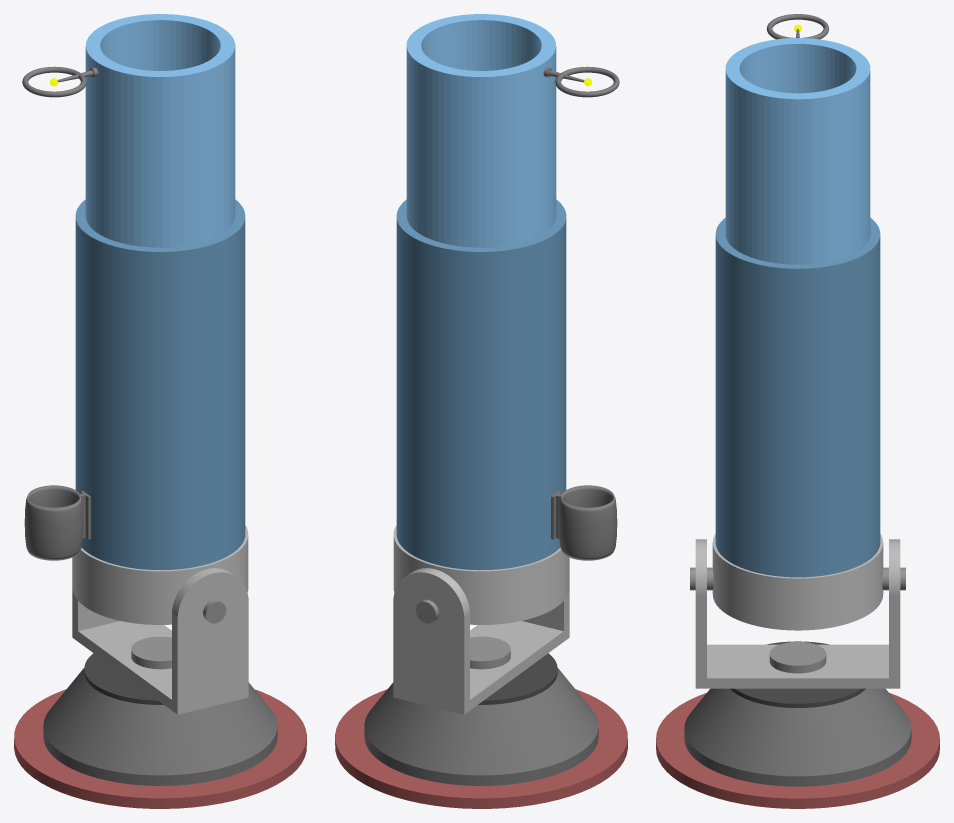
The model's file is tempCannon.gltf.
3 views of the same model, side by side, from view 1: azimuth 30°, elevation 25°; view 2: azimuth 150°, elevation 25°; view 3: azimuth 270°, elevation 25° (orthographic). The views are drawn at different scales.
Visible parts, largest first — view 1: outerBarrel, innerBarrel, baseCone (×2), Cylinder, receiver, bracketSide1bottom, bracketBottom, rearPeep, bracketSide1Top, baseBushing, basePivot, reticle (+1 smaller); view 2: outerBarrel, innerBarrel, baseCone (×2), Cylinder, receiver, bracketSide2bottom, bracketBottom, rearPeep, bracketSide2Top, baseBushing, basePivot, reticle (+1 smaller); view 3: outerBarrel, innerBarrel, baseCone (×2), Cylinder, receiver, bracketBottom, baseBushing, basePivot, bracketSide1bottom, bracketSide2bottom, bracketSide1Top, bracketSide2Top (+2 smaller).
Part boxes in pixels (box(x1,y1,x2,y2)): outerBarrel: box(75, 199, 245, 570); innerBarrel: box(85, 14, 235, 247); baseCone (×2): box(43, 668, 277, 785); Cylinder: box(14, 689, 306, 808); receiver: box(72, 525, 248, 624); bracketSide1bottom: box(172, 602, 248, 703); bracketBottom: box(72, 621, 248, 714); rearPeep: box(24, 485, 83, 560); bracketSide1Top: box(172, 568, 248, 618); baseBushing: box(84, 653, 163, 704); basePivot: box(131, 636, 171, 669); reticle: box(22, 66, 86, 97); outerBarrel: box(396, 199, 566, 570); innerBarrel: box(406, 14, 556, 247); baseCone (×2): box(364, 668, 598, 785); Cylinder: box(335, 689, 627, 808); receiver: box(393, 525, 569, 624); bracketSide2bottom: box(393, 603, 469, 703); bracketBottom: box(393, 621, 569, 714); rearPeep: box(558, 485, 617, 560); bracketSide2Top: box(393, 568, 469, 648); baseBushing: box(478, 653, 557, 704); basePivot: box(470, 636, 510, 669); reticle: box(555, 66, 619, 97); outerBarrel: box(715, 218, 880, 577); innerBarrel: box(725, 38, 870, 264); baseCone (×2): box(684, 688, 911, 786); Cylinder: box(656, 693, 939, 808); receiver: box(712, 534, 883, 630); bracketBottom: box(695, 644, 900, 688); baseBushing: box(730, 641, 865, 707); basePivot: box(769, 641, 826, 673); bracketSide1bottom: box(695, 596, 706, 678); bracketSide2bottom: box(889, 596, 900, 678); bracketSide1Top: box(695, 539, 706, 596); bracketSide2Top: box(889, 539, 900, 596).
Bounding box in the file's own units: 5.14 × 13.22 × 5.
